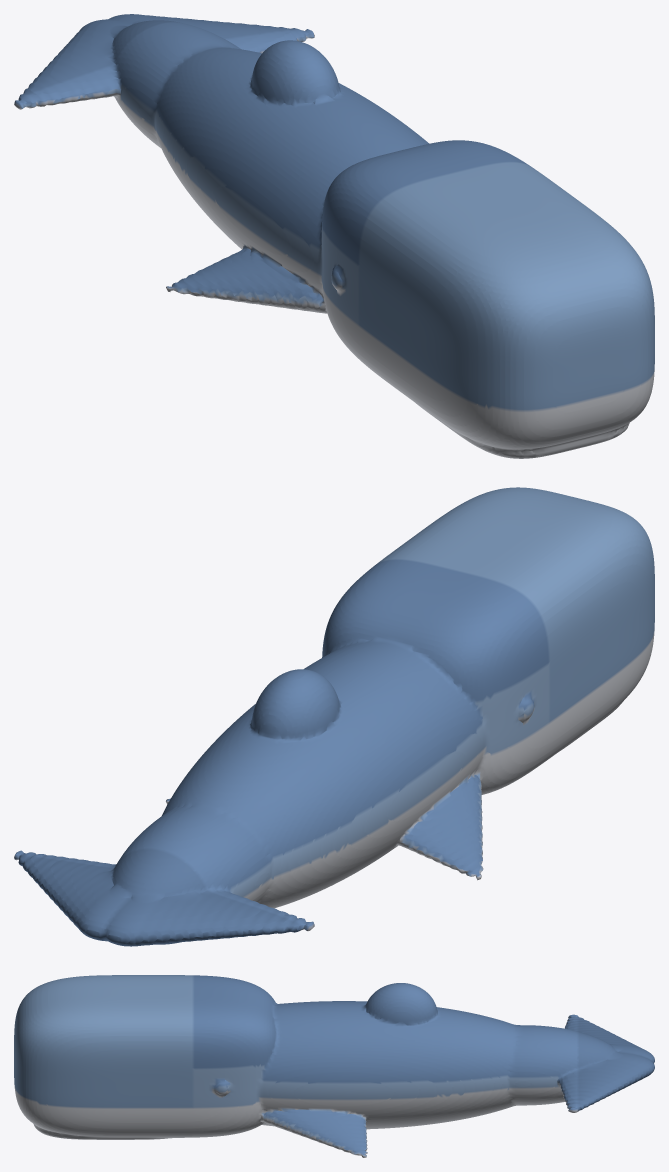
The model's file is sperm_whale.glb.
3 renders of one model, top to bottom at view 1: azimuth 30°, elevation 25°; view 2: azimuth 150°, elevation 25°; view 3: azimuth 270°, elevation 25°, orthographic. The views are drawn at different scales.
Visible parts, largest first — view 1: sperm_whale; view 2: sperm_whale; view 3: sperm_whale.
Part boxes in pixels (x1,y1,x2,y2): sperm_whale: (14, 14, 654, 458); sperm_whale: (14, 487, 654, 946); sperm_whale: (14, 975, 654, 1157).
Bounding box in the file's own units: 5.96 × 3.8 × 16.
